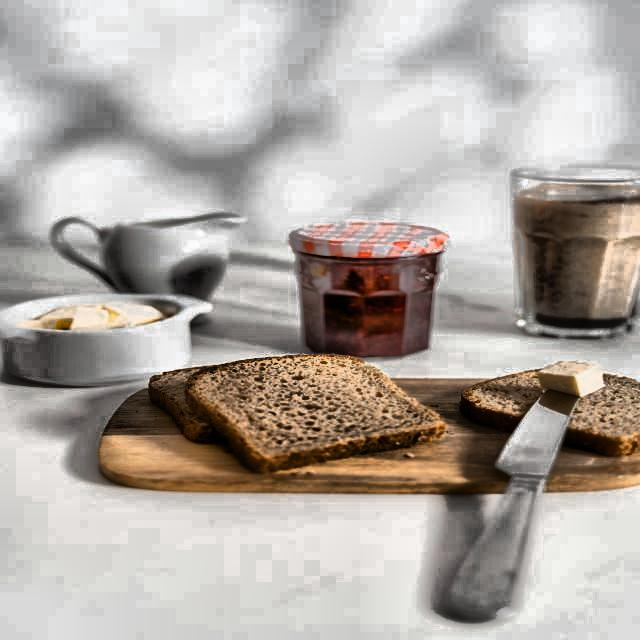knife: (440, 378, 600, 628)
